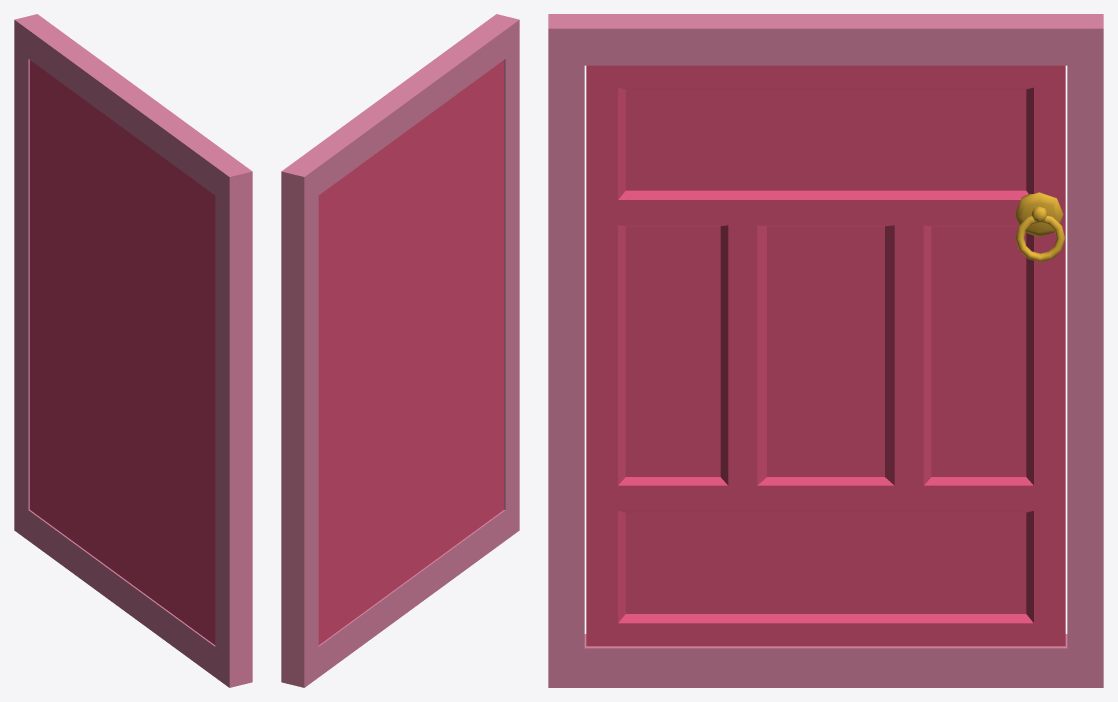
File: yurtdoor.fbx
The picture shows the model from 3 angles, left to right: view 1: azimuth 30°, elevation 25°; view 2: azimuth 150°, elevation 25°; view 3: azimuth 270°, elevation 25°; orthographic projection. The views are drawn at different scales.
Parts seen in each view (by area): view 1: Cube.161, Cube.162; view 2: Cube.161, Cube.162; view 3: Cube.161, Cube.162.
Boxes of the visible parts, bbox=[...] form: Cube.161: bbox=[30, 60, 215, 644]; Cube.162: bbox=[14, 14, 252, 687]; Cube.161: bbox=[318, 60, 503, 644]; Cube.162: bbox=[281, 14, 519, 687]; Cube.161: bbox=[586, 65, 1065, 646]; Cube.162: bbox=[548, 14, 1103, 687].
Bounding box in the file's own units: 56.87 × 717 × 548.
